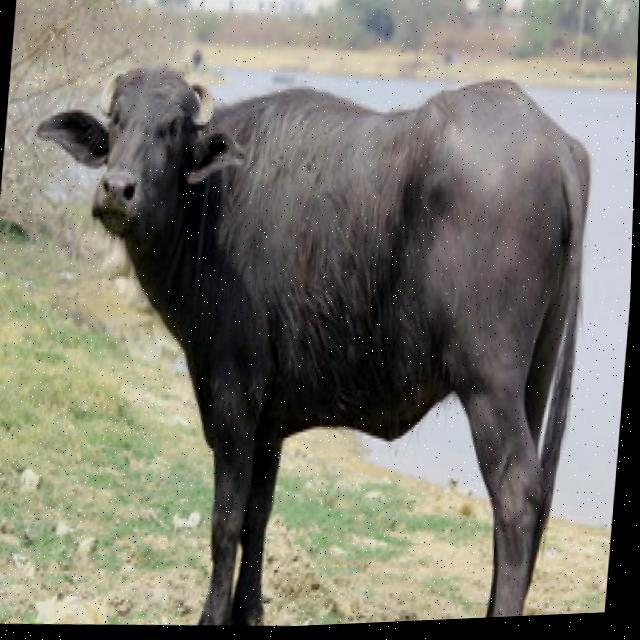Buffalo: (0, 31, 605, 640)
